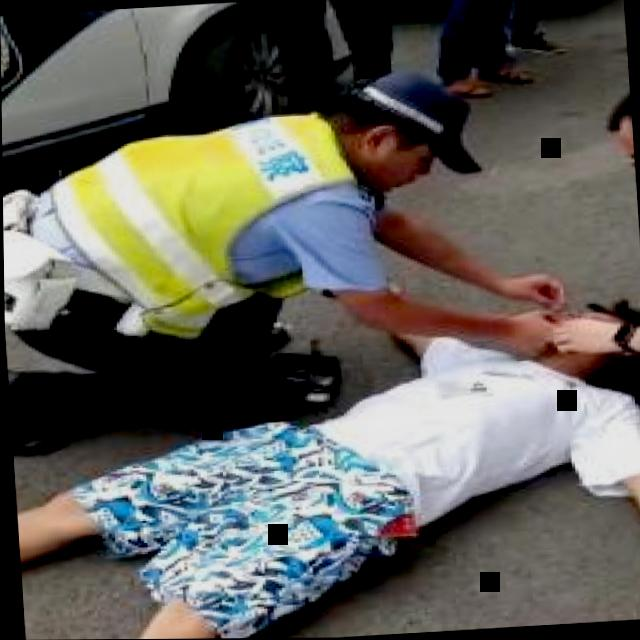Fall-Detected: (3, 266, 640, 640)
